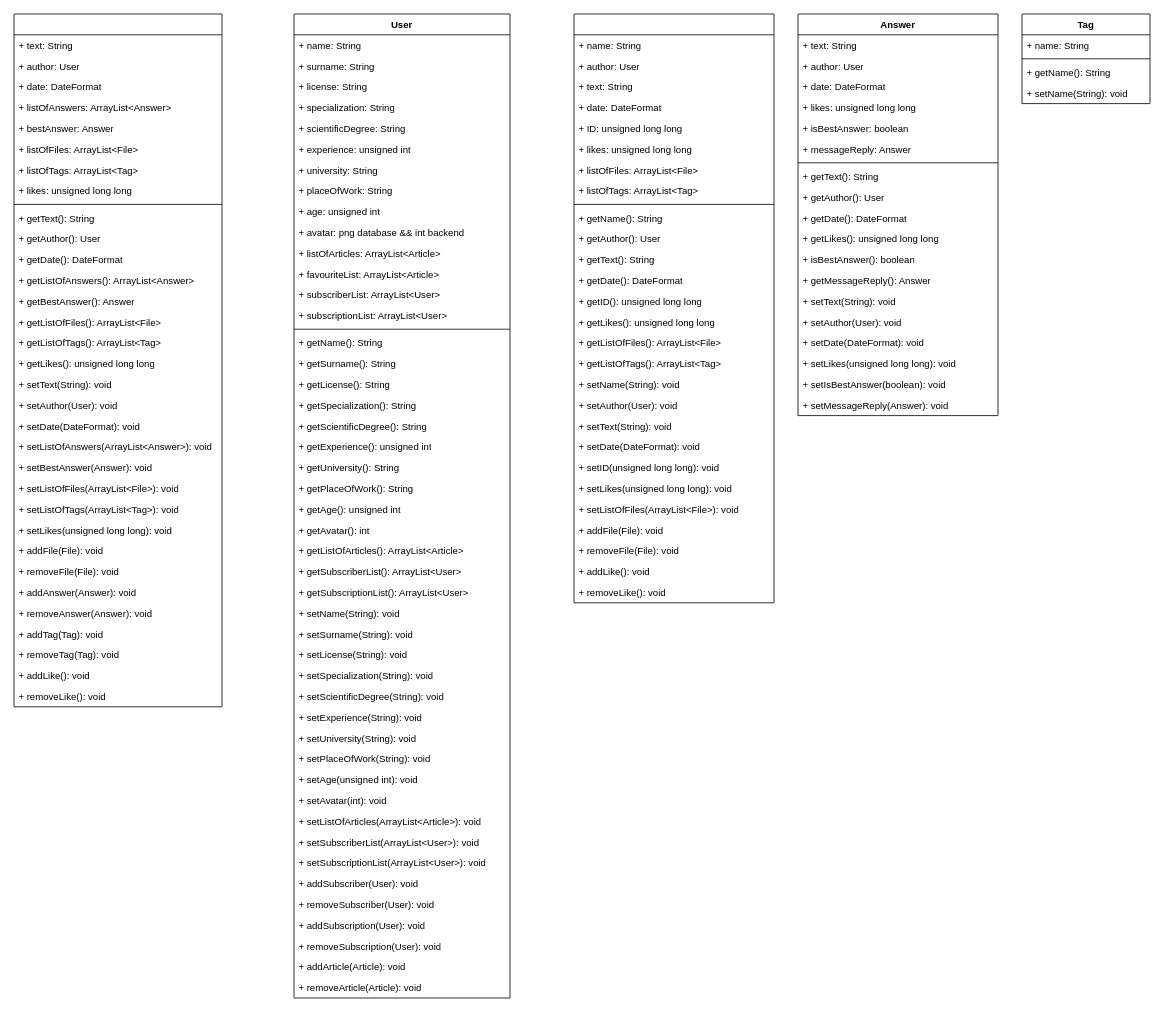
Image size: 1164x1014. Some labels were removed from this diagram. Each missing label, with the box of its shape:
Article: (573, 13, 774, 603)
Question: (13, 13, 222, 707)
